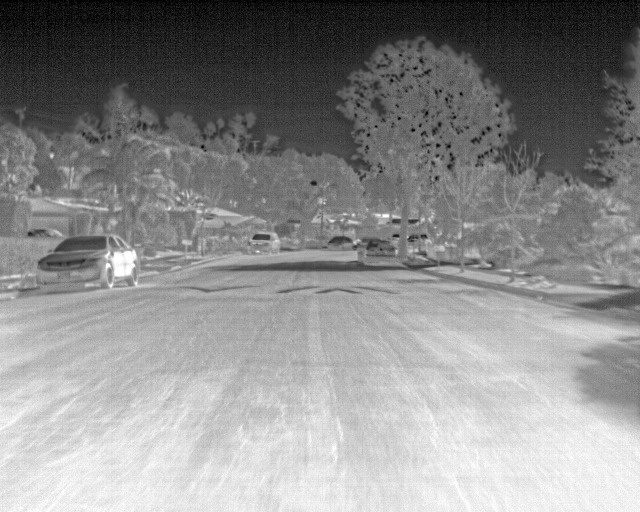vehicle: (35, 233, 142, 294), (247, 230, 280, 254)
